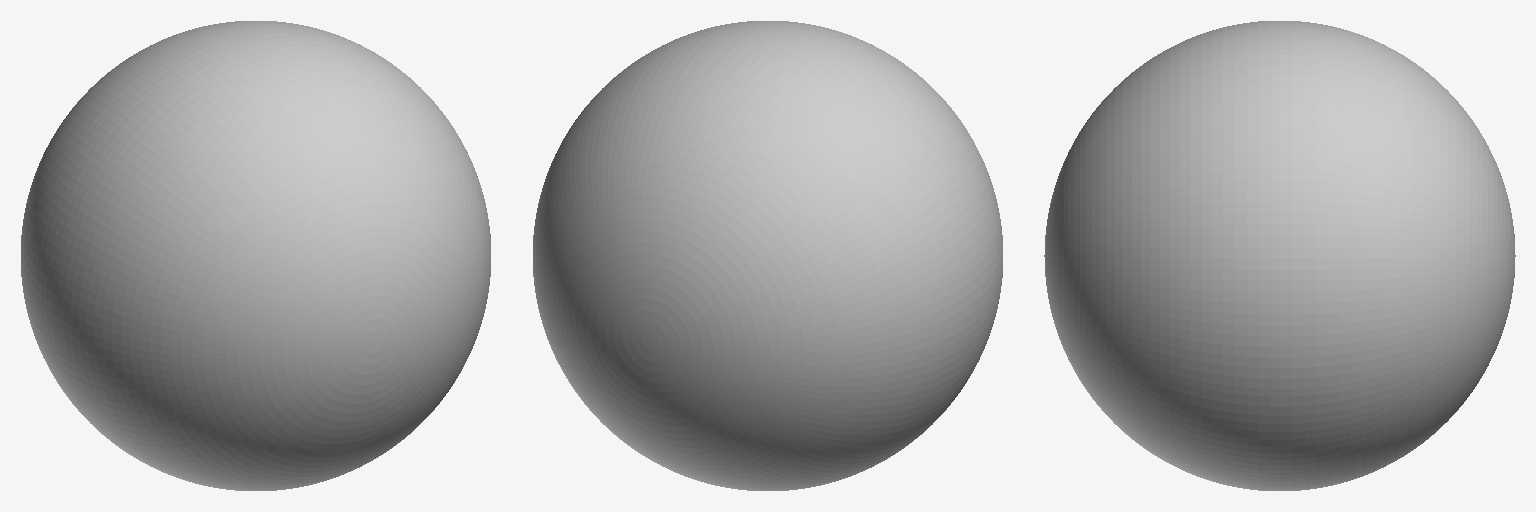
File: spherehigh.obj
3 renders of one model, left to right at view 1: azimuth 30°, elevation 25°; view 2: azimuth 150°, elevation 25°; view 3: azimuth 270°, elevation 25°, orthographic.
Bounding box in the file's own units: 3.82 × 3.82 × 3.82.